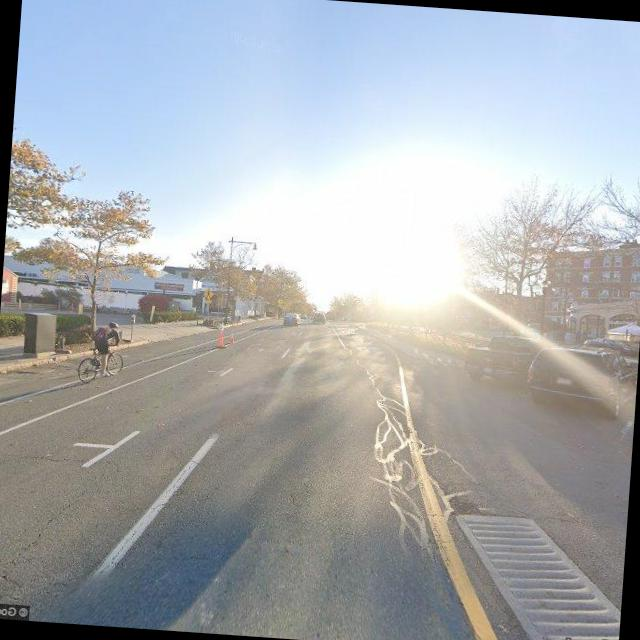crack: (0, 485, 86, 593)
